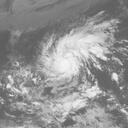cyclone: (37, 27, 104, 85)
